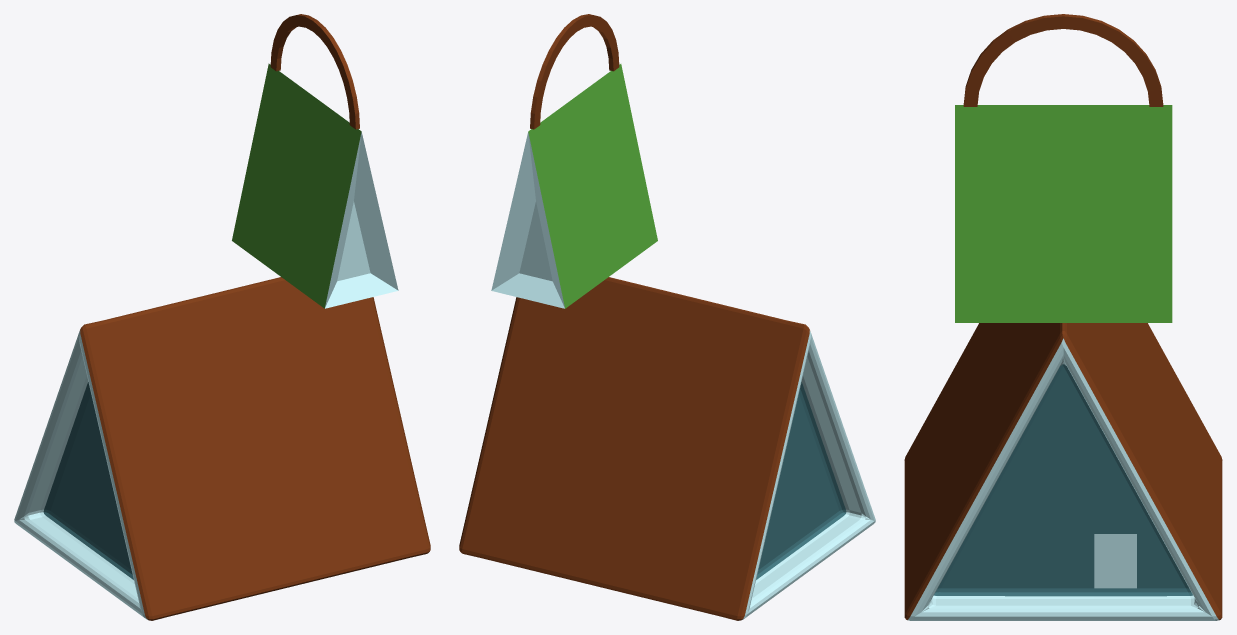
The model's file is Supermercado.fbx.
3 views of the same model, side by side, from view 1: azimuth 30°, elevation 25°; view 2: azimuth 150°, elevation 25°; view 3: azimuth 270°, elevation 25° (orthographic). The views are drawn at different scales.
Visible parts, largest first — view 1: Supermercado; view 2: Supermercado; view 3: Supermercado.
Boxes of the visible parts, <box> form: Supermercado: <box>14,14,430,620</box>; Supermercado: <box>459,14,875,620</box>; Supermercado: <box>904,14,1222,620</box>.
Bounding box in the file's own units: 240 × 396 × 197.
